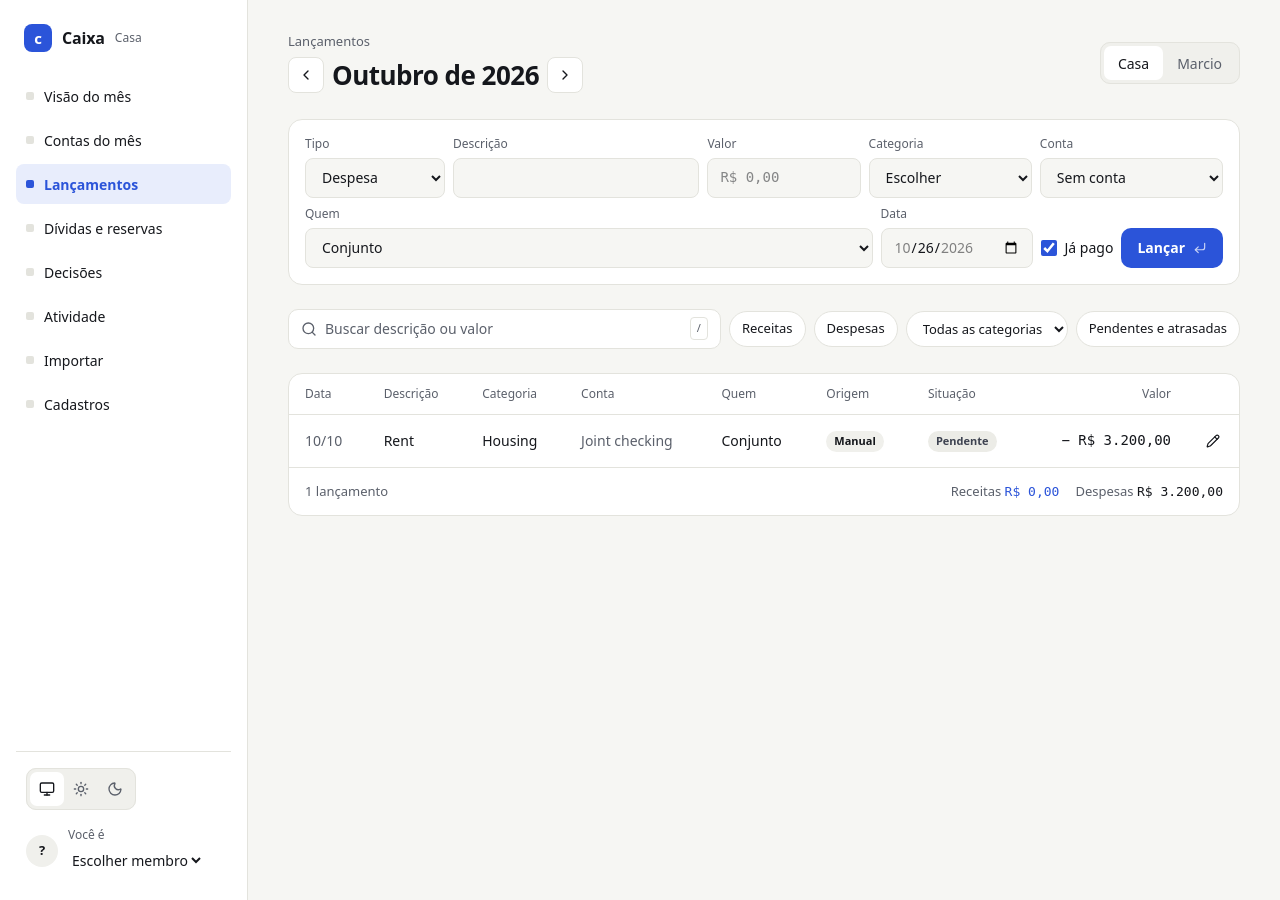
explains what is missing before sending anything
The image size is (1280, 900).
Type "abc" into the field labelled "Valor" at coordinates (784, 178), box left=707, top=158, right=861, bottom=198
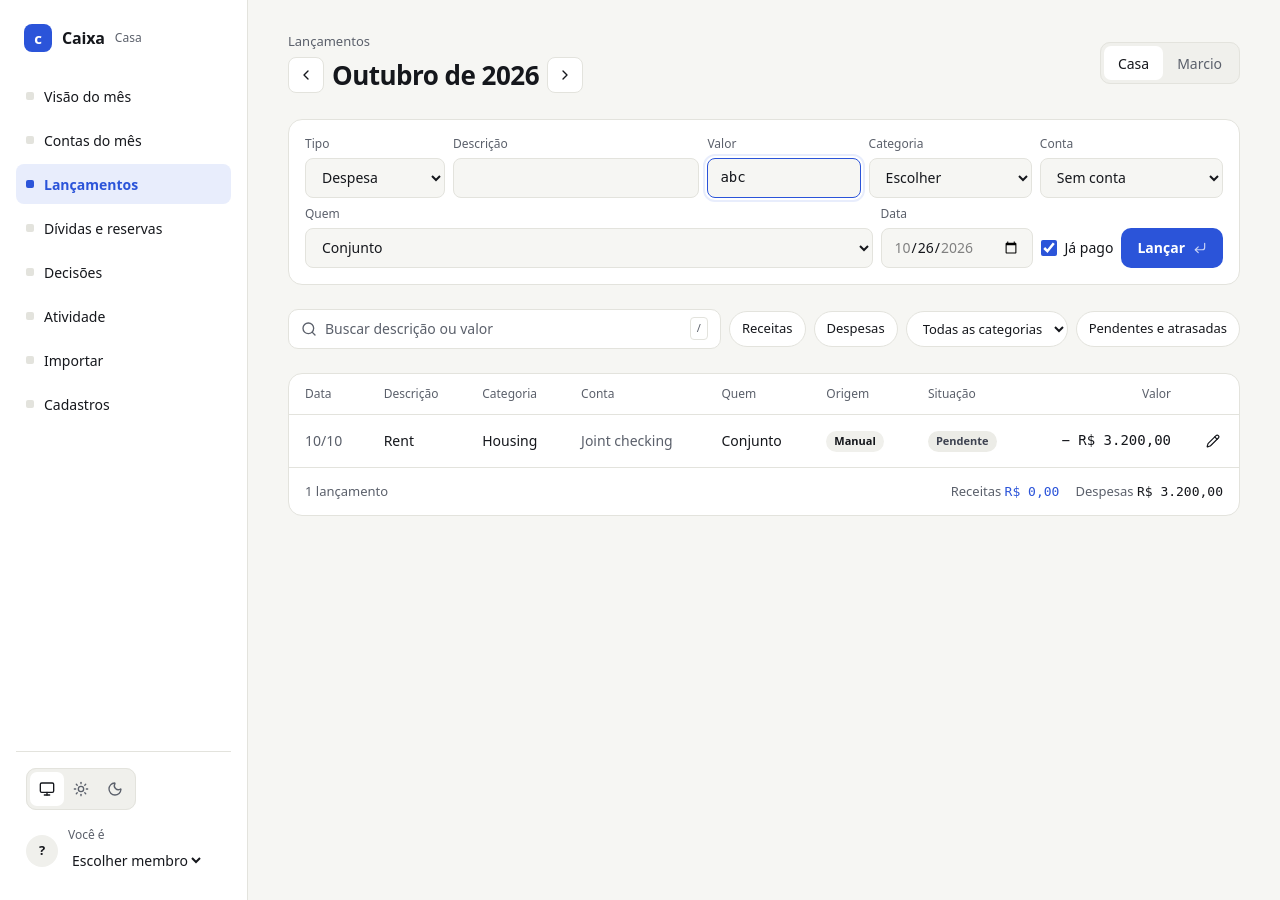
Click the button "Lançar" at coordinates (1172, 248), box left=1121, top=228, right=1223, bottom=268
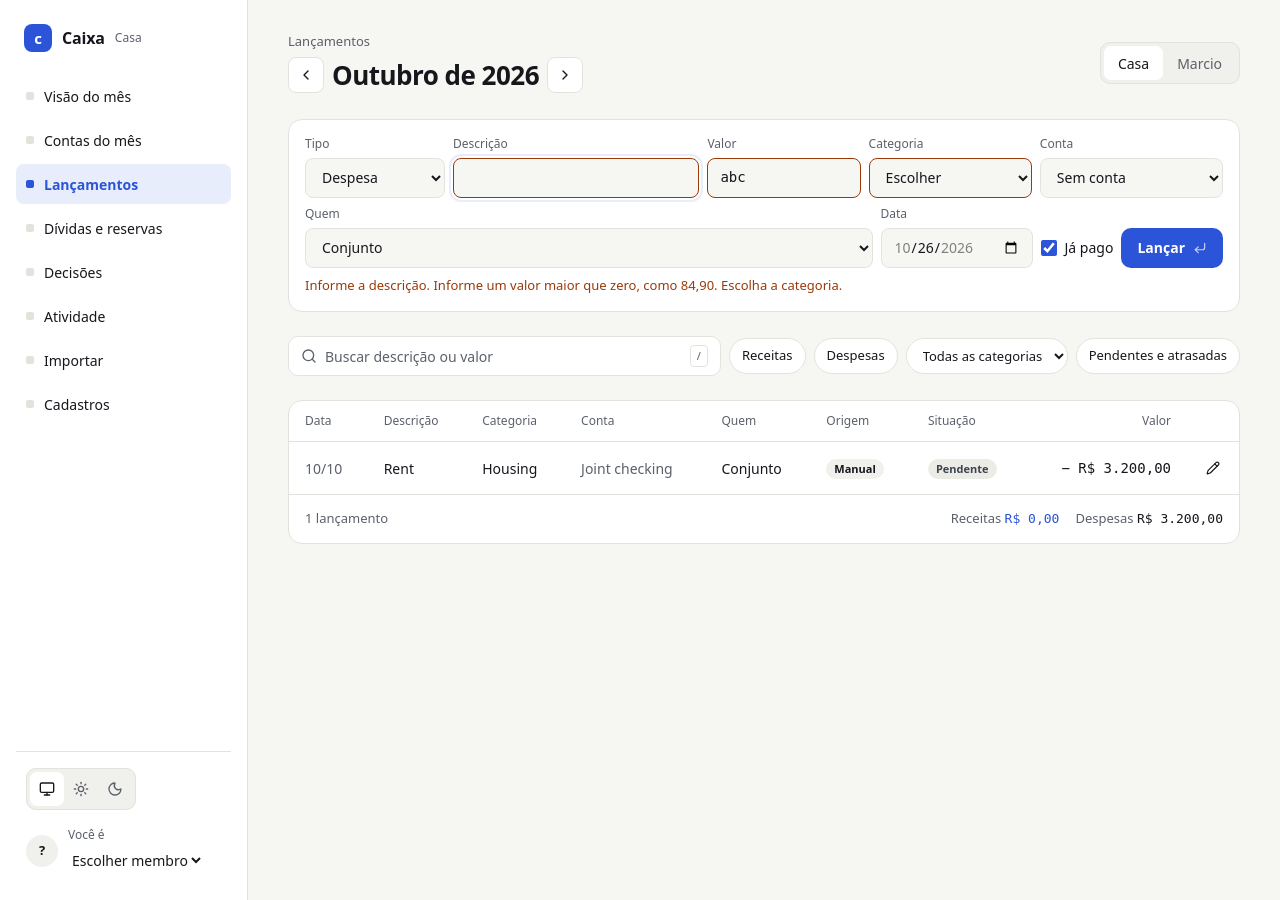
Check: the message shows "Informe a descrição. Informe um valor maior que zero, como 84,90. Escolha a categoria.", box left=305, top=276, right=842, bottom=294
